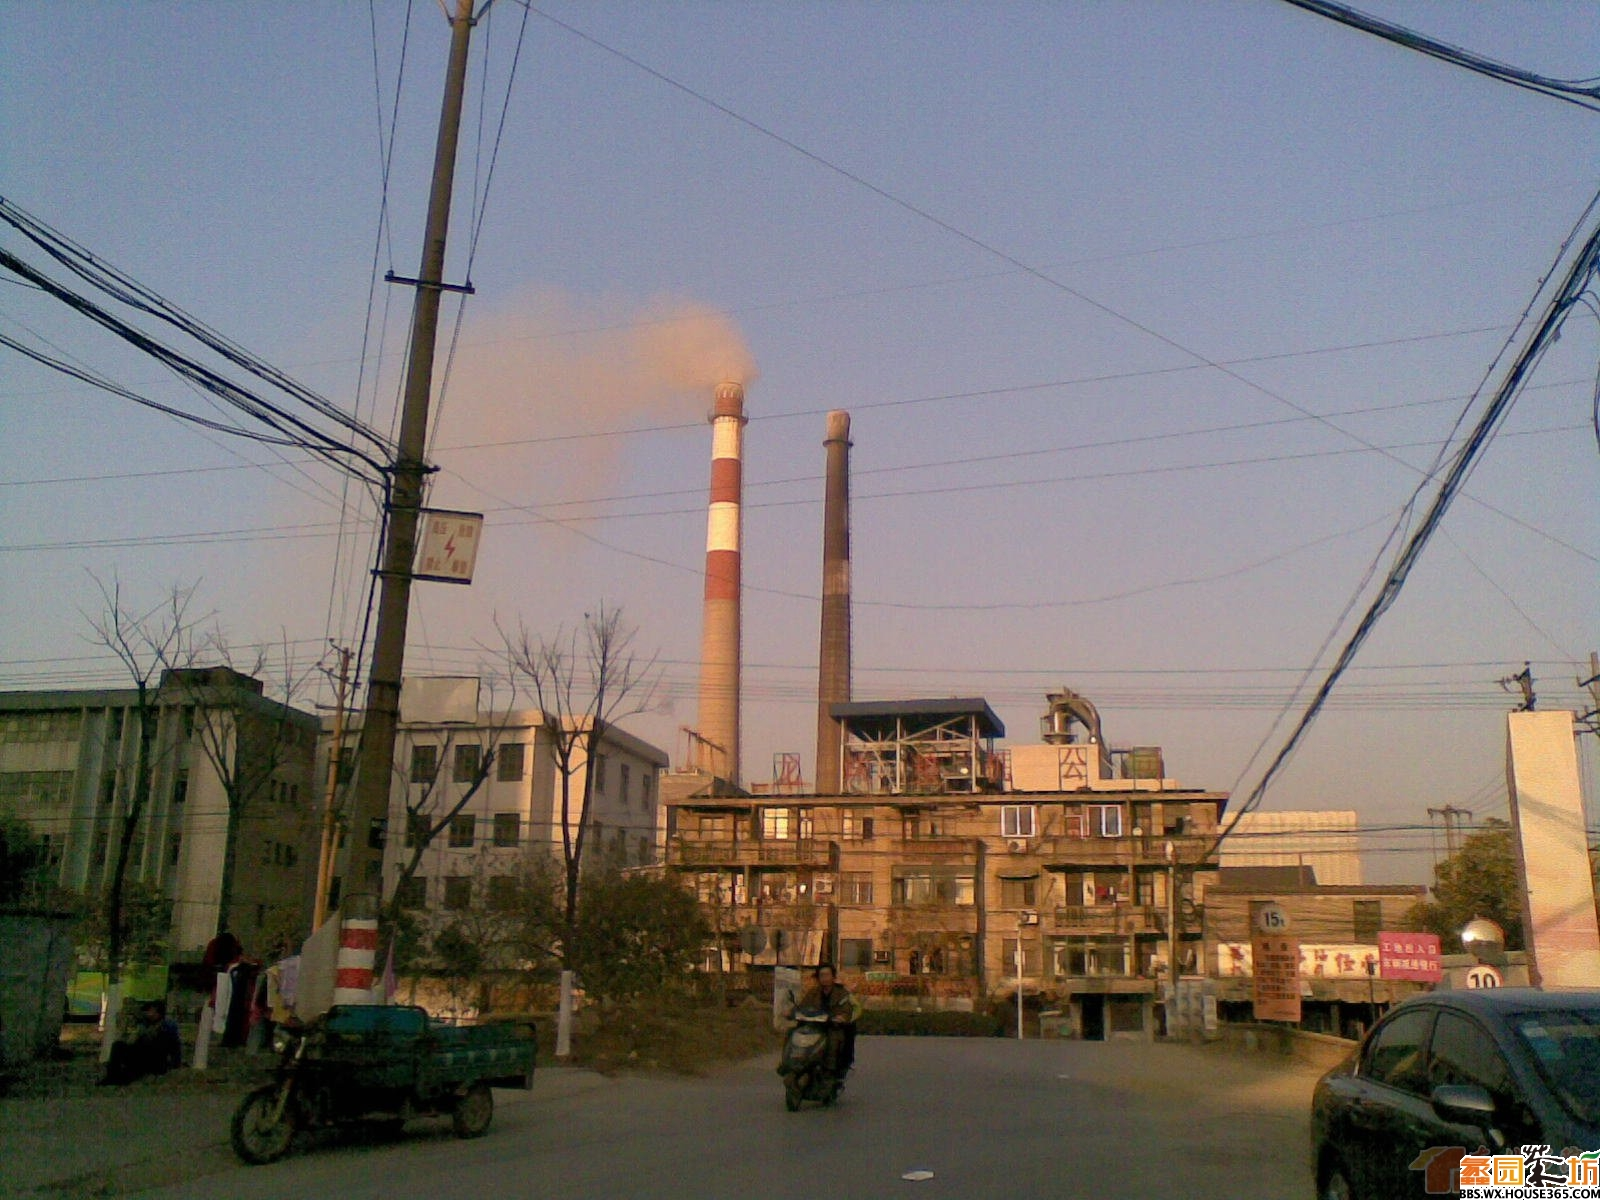dust: (437, 279, 776, 422)
